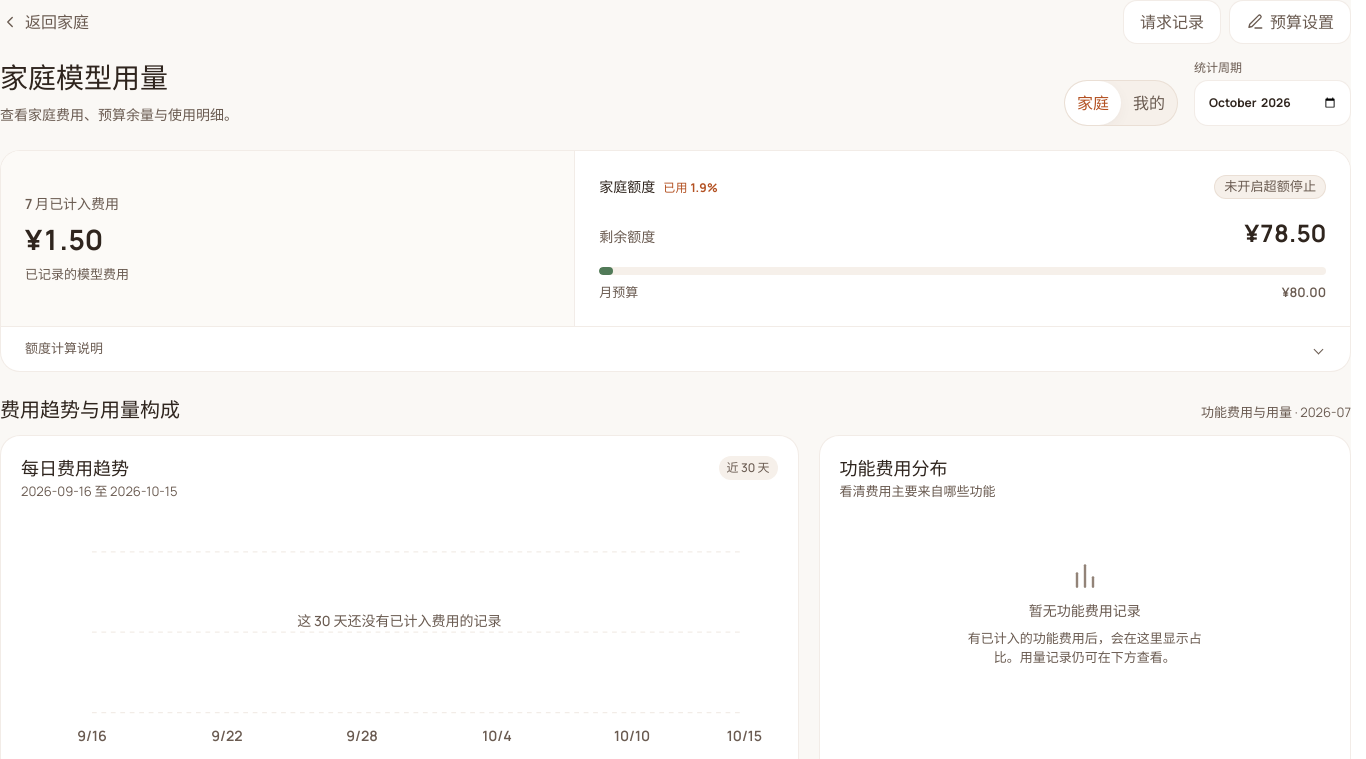
Test: ModelUsagePolicySettings › shows a concise policy summary and hides storage precision from the editable budget
The image size is (1366, 759).
expect the heading "家庭模型用量" is shown: met, box [0,58,168,96]
Step 1. Click the button "预算设置" → (1290, 22), box [1229,0,1351,44]
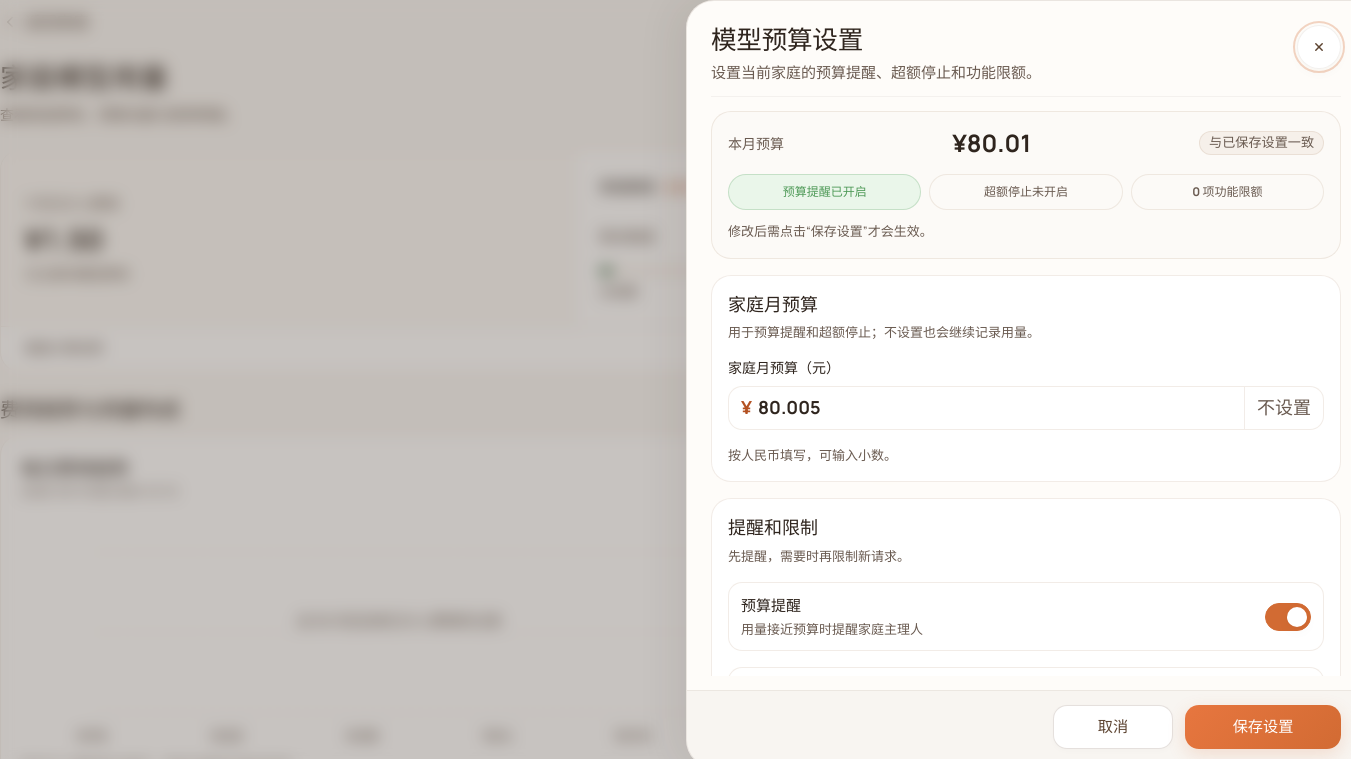
expect the element named "当前预算策略" shows "¥80.01": met, box [952,126,1031,159]
expect the element named "当前预算策略" shows "预算提醒已开启": met, box [711,111,1341,259]
expect the element named "当前预算策略" shows "超额停止未开启": met, box [711,111,1341,259]
